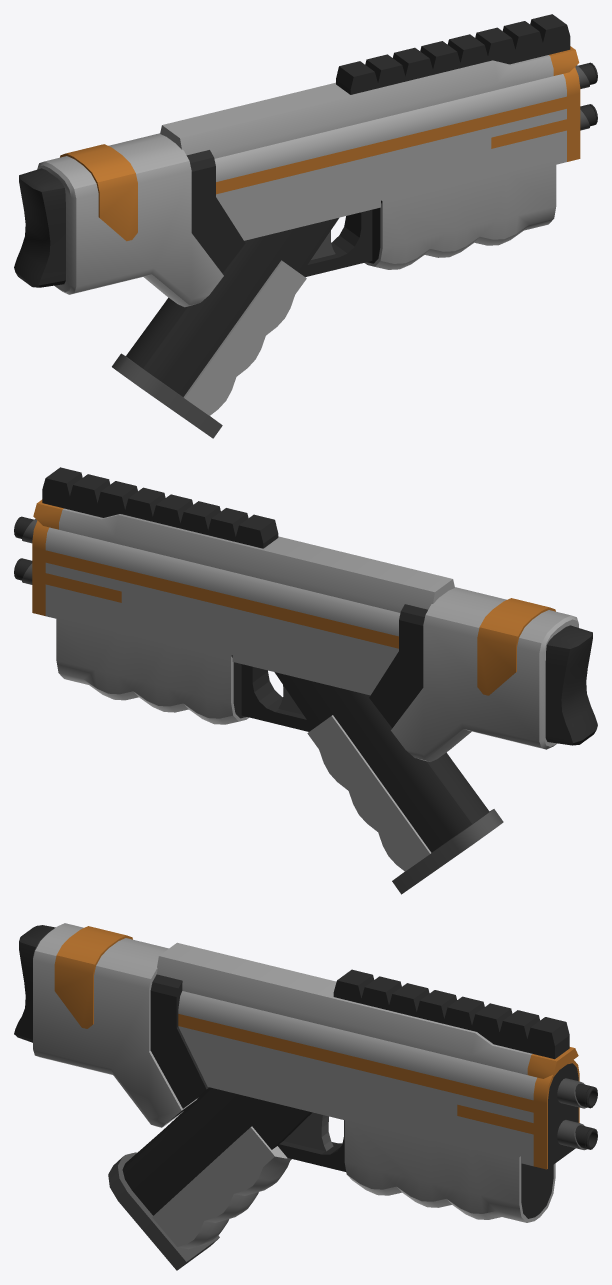
File: quaternius-modular-sci-fi-guns-pistol-3.glb
3 renders of one model, top to bottom at view 1: azimuth 30°, elevation 25°; view 2: azimuth 150°, elevation 25°; view 3: azimuth 330°, elevation 25°, orthographic.
Visible parts, largest first — view 1: Pistol_3; view 2: Pistol_3; view 3: Pistol_3.
Boxes of the visible parts, <box> form: Pistol_3: <box>14,14,597,438</box>; Pistol_3: <box>14,467,597,894</box>; Pistol_3: <box>14,923,597,1270</box>.
Size of the model in its own units: 0.9094 by 0.4864 by 0.114.
